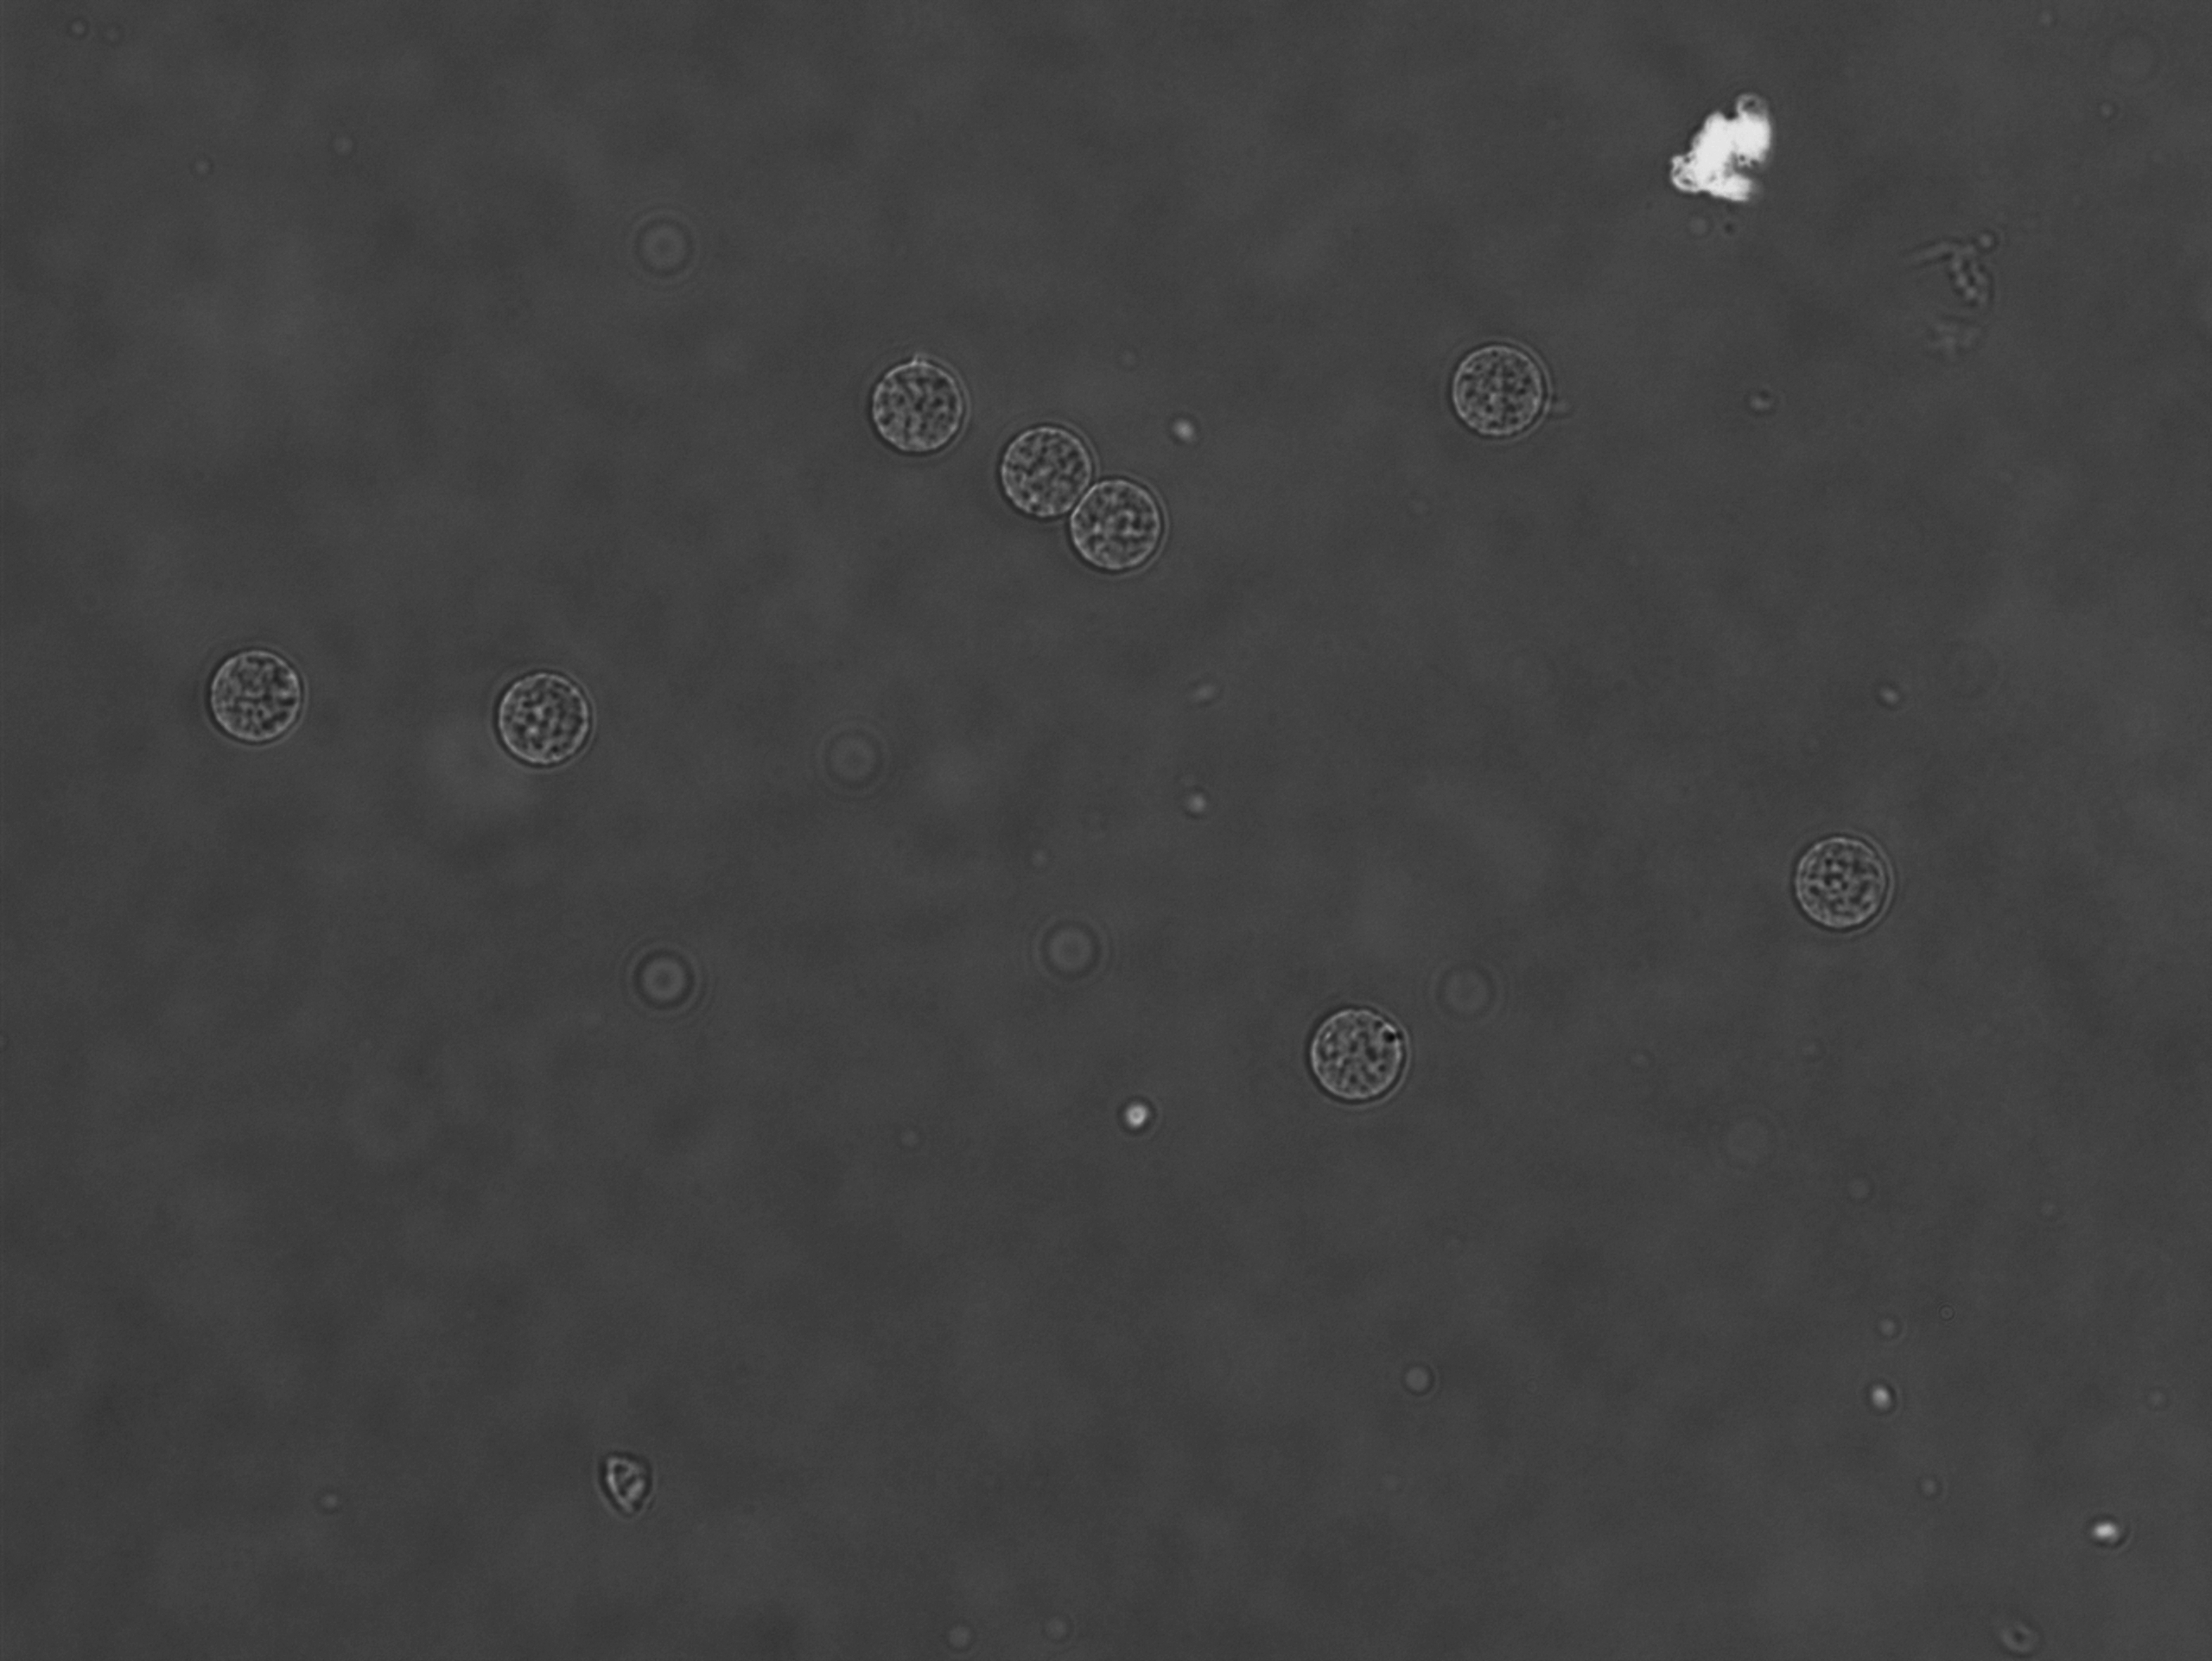depth:0: (846, 325, 993, 478), (471, 642, 619, 792), (1280, 982, 1436, 1118), (1771, 813, 1914, 951), (973, 398, 1122, 523), (195, 630, 333, 759), (1441, 323, 1568, 459), (1064, 466, 1195, 593)
